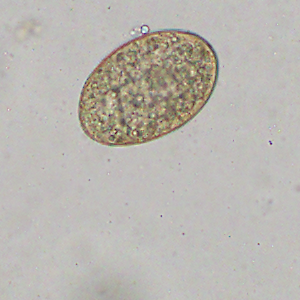Fasciola_hepatica_egg: (76, 28, 220, 148)
